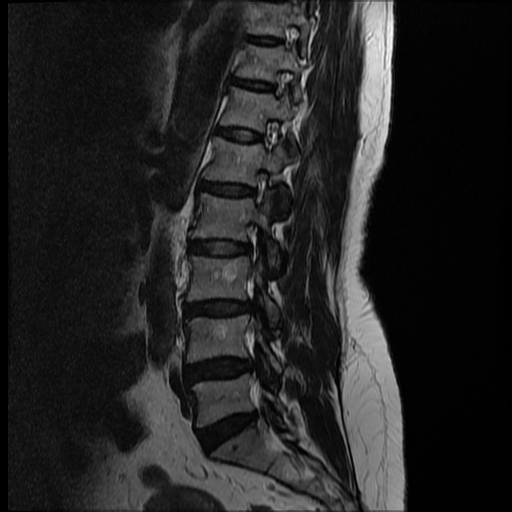LFS0: (235, 159, 279, 214)
